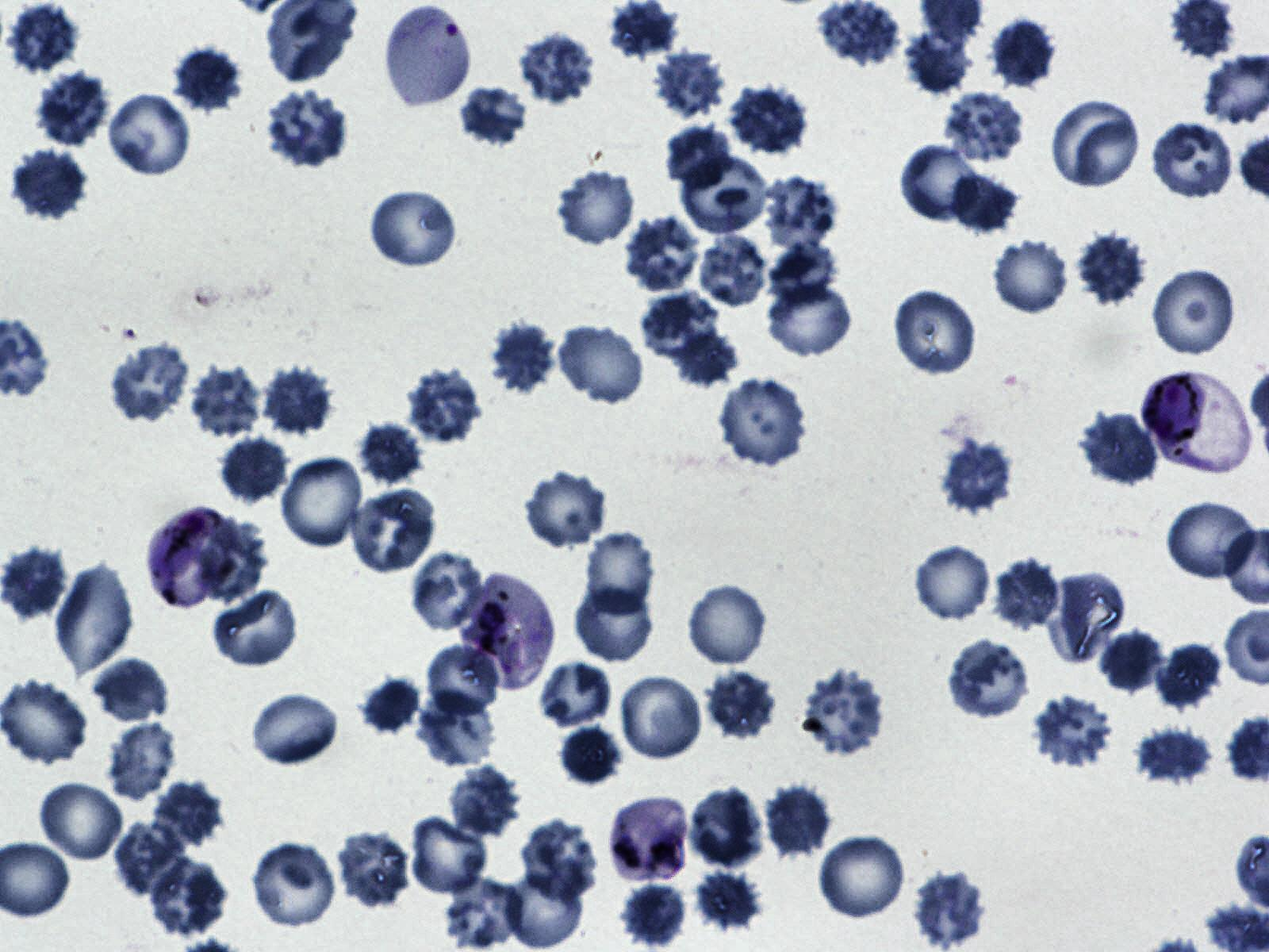Infected: (1141, 374, 1256, 474), (381, 2, 473, 110), (462, 576, 554, 684), (148, 512, 240, 610), (607, 793, 693, 884)
Uninfected: (52, 560, 133, 678), (278, 452, 368, 551), (718, 374, 811, 468), (792, 672, 891, 757), (251, 838, 339, 932), (618, 672, 707, 764), (1055, 97, 1143, 190), (1152, 266, 1239, 360), (819, 831, 908, 921), (248, 686, 341, 772), (891, 289, 979, 378), (368, 187, 461, 271), (896, 139, 983, 227), (36, 779, 127, 863), (557, 322, 646, 407), (523, 466, 612, 551), (105, 93, 195, 177), (1165, 501, 1259, 581), (0, 681, 88, 766), (260, 84, 350, 167), (349, 486, 435, 572), (213, 585, 301, 669), (1049, 570, 1125, 666), (765, 281, 858, 359), (948, 635, 1031, 722), (108, 343, 195, 426), (1150, 119, 1237, 201), (677, 155, 765, 236), (405, 549, 486, 636), (1027, 690, 1115, 770), (685, 584, 769, 667), (406, 813, 490, 896), (333, 829, 412, 916), (557, 165, 638, 248), (913, 543, 994, 625), (521, 819, 603, 900), (942, 88, 1029, 164), (421, 637, 500, 720), (580, 528, 658, 612), (412, 693, 501, 766), (991, 237, 1072, 317), (104, 725, 178, 812), (145, 861, 224, 942), (574, 585, 656, 663), (639, 291, 726, 364), (938, 436, 1017, 515), (516, 33, 600, 107), (507, 873, 586, 951), (443, 765, 526, 839), (688, 790, 765, 869), (1080, 410, 1159, 487), (914, 865, 991, 944), (623, 217, 706, 290), (33, 67, 110, 143), (446, 877, 525, 951), (407, 368, 483, 444), (113, 821, 190, 896), (149, 779, 226, 854), (10, 147, 88, 221), (762, 175, 838, 250), (991, 555, 1063, 631), (201, 521, 266, 604), (818, 0, 899, 65), (218, 436, 291, 508), (768, 781, 834, 860), (6, 2, 77, 75), (650, 45, 724, 115), (538, 662, 613, 730), (1, 544, 67, 620), (454, 84, 532, 148), (1098, 628, 1169, 698), (1156, 642, 1224, 715), (765, 239, 836, 308), (991, 17, 1058, 90), (1075, 233, 1145, 302), (698, 235, 765, 307), (732, 85, 803, 152), (906, 24, 973, 95), (490, 322, 558, 390), (707, 668, 776, 735), (948, 171, 1019, 236), (622, 881, 688, 950), (192, 367, 257, 437), (665, 126, 735, 190), (1138, 723, 1211, 784), (98, 658, 166, 723), (266, 366, 331, 432), (694, 872, 762, 935), (174, 47, 241, 110), (611, 0, 680, 61), (358, 418, 420, 484), (560, 723, 623, 785), (676, 329, 738, 389), (363, 676, 420, 737)
